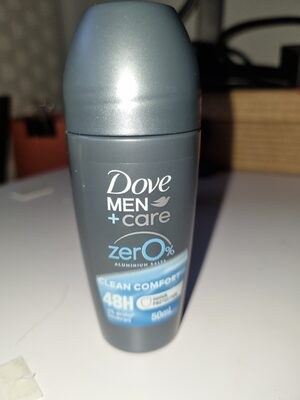Men + Care Zero 48Hrs: (15, 20, 285, 380)
